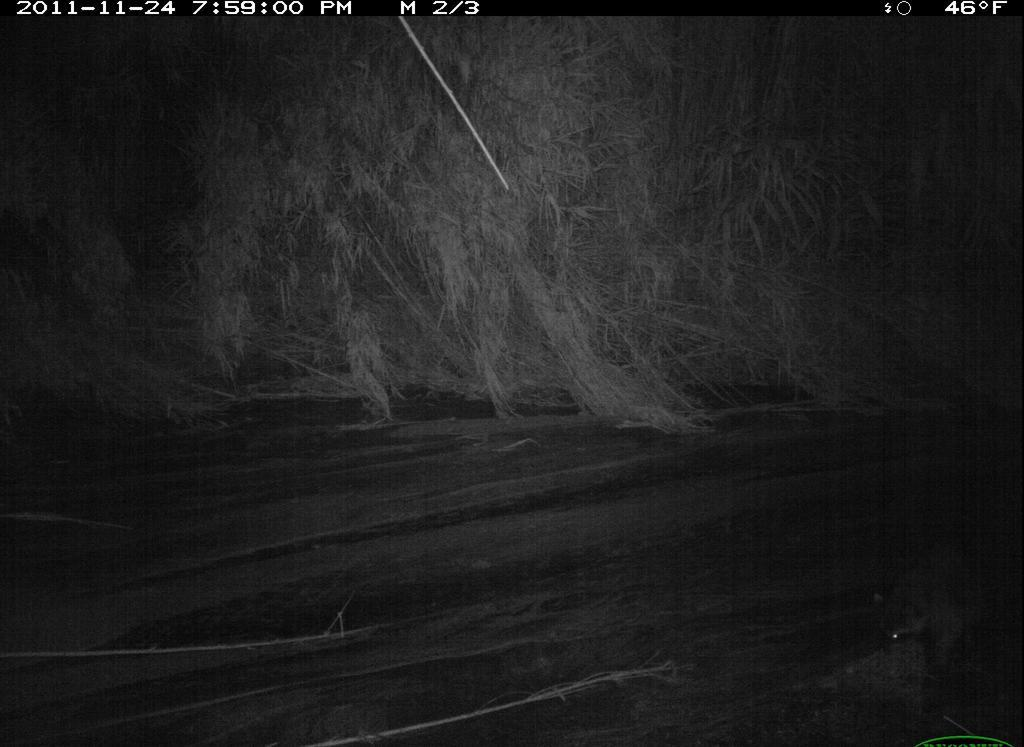raccoon: (859, 514, 1023, 689)
